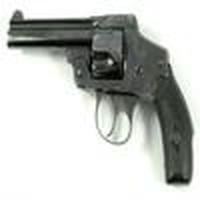gun: (10, 16, 199, 164)
